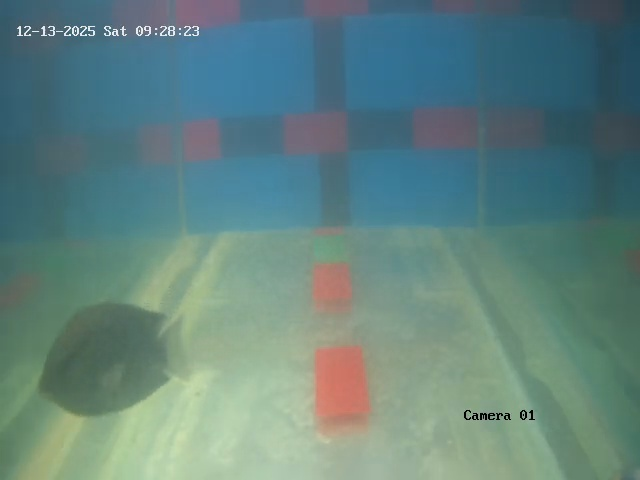fish: (35, 301, 183, 414)
